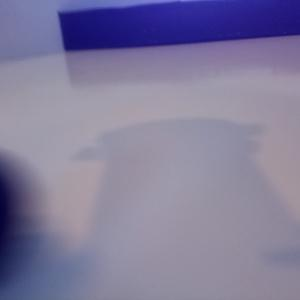zone: (57, 1, 300, 52)
